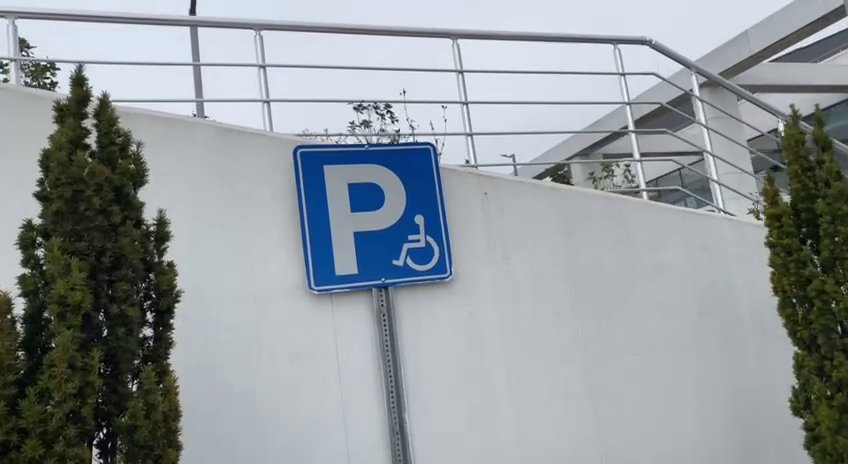parking: (292, 140, 453, 294)
